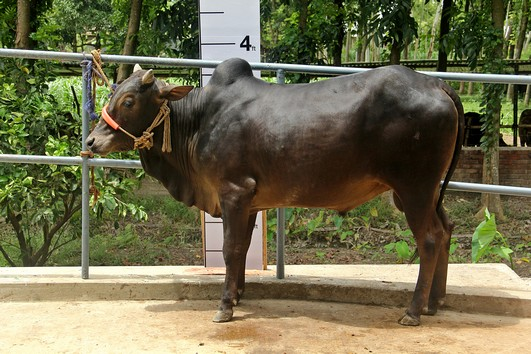cow: (81, 51, 471, 329)
